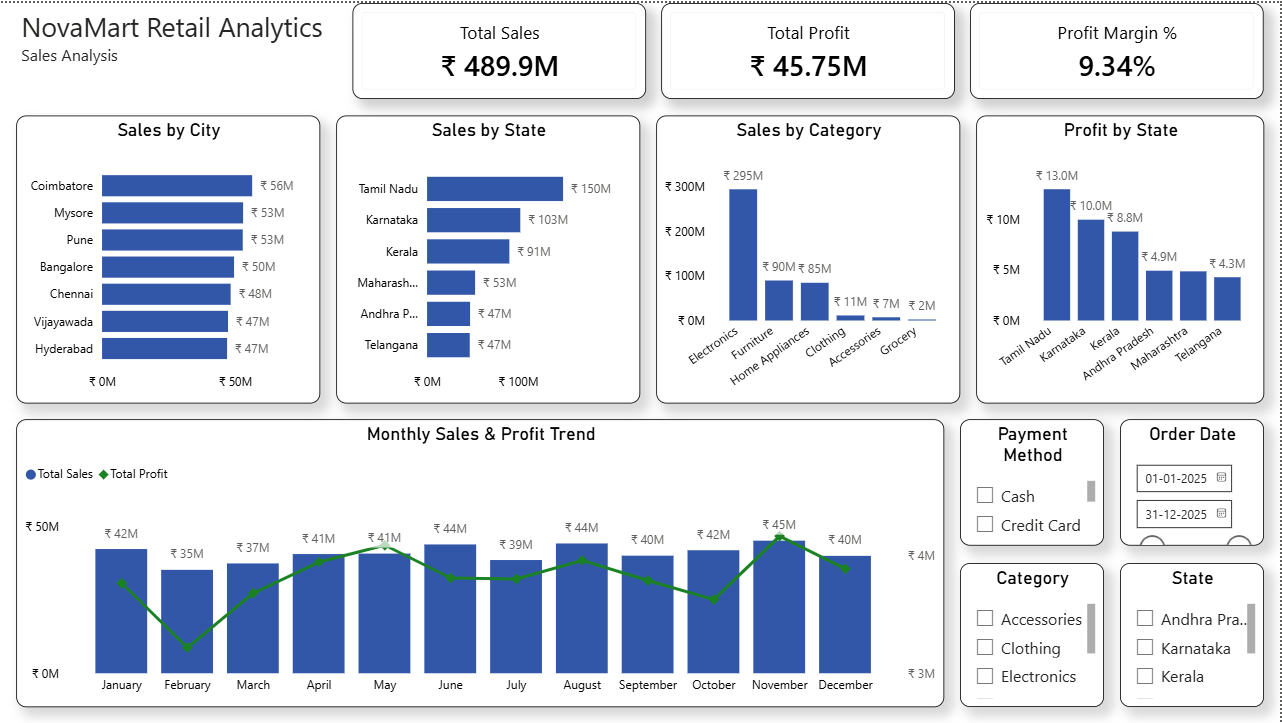

The dashboard page shown, as its layout file describes it:
{"tool":"powerbi","page":{"name":"📈 Sales Analysis","canvas":[1280,720],"ordinal":1},"visuals":[{"type":"cardVisual","title":"Total Sales","fields":{"Data":["Measures (2).Total Sales"]},"box":[352,0,293.7,96],"z":0},{"type":"textbox","box":[16,0,320,80],"z":1000},{"type":"cardVisual","title":"Profit Margin %","fields":{"Data":["Measures (2).Profit Margin %"]},"box":[970.3,0,293.7,96],"z":1000},{"type":"lineClusteredColumnComboChart","title":"Monthly Sales & Profit Trend","fields":{"Category":["NovaMart Sales.order_date.Variation.Date Hierarchy.Month"],"Y":["Measures (2).Total Sales"],"Y2":["Measures (2).Total Profit"]},"box":[16,416,928,288],"z":1000},{"type":"cardVisual","title":"Total Profit","fields":{"Data":["Measures (2).Total Profit"]},"box":[661.2,0,293.7,96],"z":2000},{"type":"clusteredColumnChart","title":"Sales by Category","fields":{"Category":["NovaMart Sales.category"],"Y":["Measures (2).Total Sales"]},"box":[656,112,304,288],"z":2000},{"type":"clusteredBarChart","title":"Sales by State","fields":{"Category":["NovaMart Sales.state"],"Y":["Measures (2).Total Sales"]},"box":[336,112,304,288],"z":3000},{"type":"clusteredBarChart","title":"Sales by City","fields":{"Y":["Measures (2).Total Sales"],"Category":["NovaMart Sales.city"]},"box":[16,112,304,288],"z":4000},{"type":"clusteredColumnChart","title":"Profit by State","fields":{"Y":["Measures (2).Total Profit"],"Category":["NovaMart Sales.state"]},"box":[976,112,288,288],"z":5000},{"type":"slicer","title":"Order Date","fields":{"Values":["NovaMart Sales.order_date"]},"box":[1120,416,144,126],"z":6000},{"type":"slicer","title":"Payment Method","fields":{"Values":["NovaMart Sales.payment_method"]},"box":[960,416,144,126],"z":7000},{"type":"slicer","title":"Category","fields":{"Values":["NovaMart Sales.category"]},"box":[960,560,144,144],"z":8000},{"type":"slicer","title":"State","fields":{"Values":["NovaMart Sales.state"]},"box":[1120,560,144,144],"z":9000}]}

Visuals, with their boxes in screenshot pixels (x1, y1, x2, y2), scaled from the page's 1280x720 canvas onto the 1282x723 screenshot:
"Total Sales" cardVisual: [left=353, top=0, right=647, bottom=96]
textbox: [left=16, top=0, right=337, bottom=80]
"Profit Margin %" cardVisual: [left=972, top=0, right=1266, bottom=96]
"Monthly Sales & Profit Trend" lineClusteredColumnComboChart: [left=16, top=418, right=945, bottom=707]
"Total Profit" cardVisual: [left=662, top=0, right=956, bottom=96]
"Sales by Category" clusteredColumnChart: [left=657, top=112, right=961, bottom=402]
"Sales by State" clusteredBarChart: [left=337, top=112, right=641, bottom=402]
"Sales by City" clusteredBarChart: [left=16, top=112, right=320, bottom=402]
"Profit by State" clusteredColumnChart: [left=978, top=112, right=1266, bottom=402]
"Order Date" slicer: [left=1122, top=418, right=1266, bottom=544]
"Payment Method" slicer: [left=961, top=418, right=1106, bottom=544]
"Category" slicer: [left=961, top=562, right=1106, bottom=707]
"State" slicer: [left=1122, top=562, right=1266, bottom=707]
